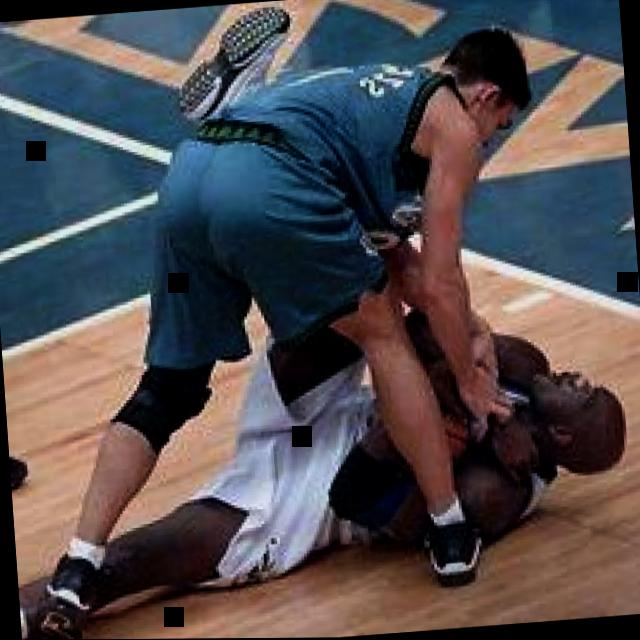Fall-Detected: (4, 268, 640, 628)
